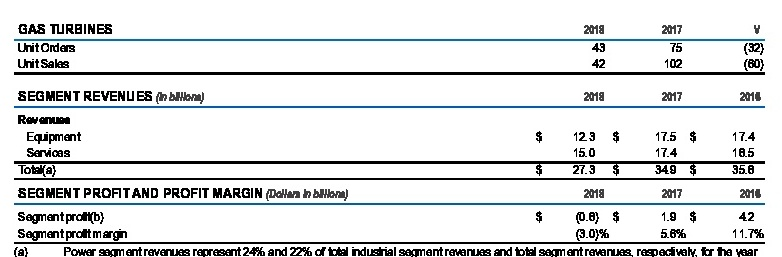table: (0, 0, 782, 257)
